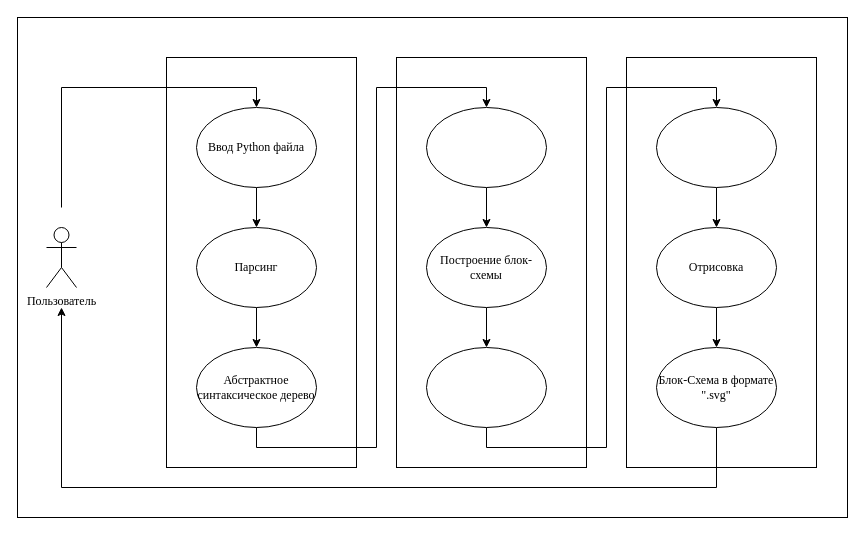
This 865x535 diagram has some shape labels left out. The centre of each missing label's shape, as x and y in pixels:
Блок-Схема: point (486, 387)
Получение АСД: point (486, 147)
Получение Блок-схемы: point (716, 147)
